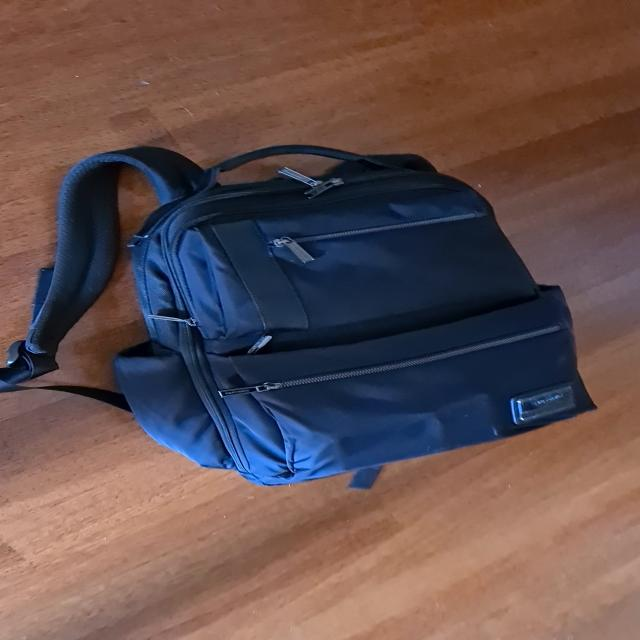backpack: (72, 136, 608, 498)
